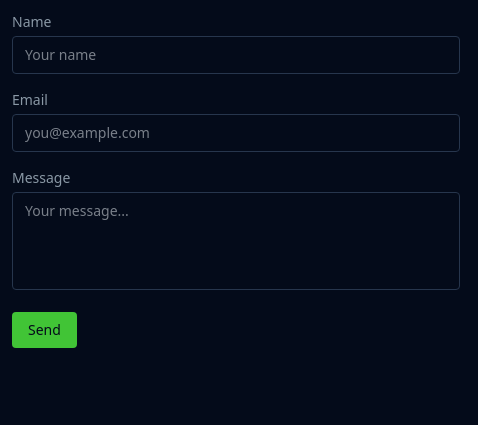
Test: ContactForm › shows every validation message when sent empty
Click the button "Send" at x=44, y=330, box left=12, top=312, right=77, bottom=348
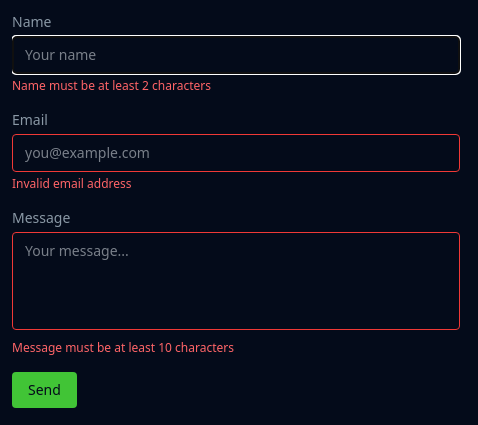
Expected: the text "Name must be at least 2 characters" is shown, left=12, top=77, right=211, bottom=94
Expected: the text "Invalid email address" is shown, left=12, top=175, right=132, bottom=192
Expected: the text "Message must be at least 10 characters" is shown, left=12, top=339, right=234, bottom=356
